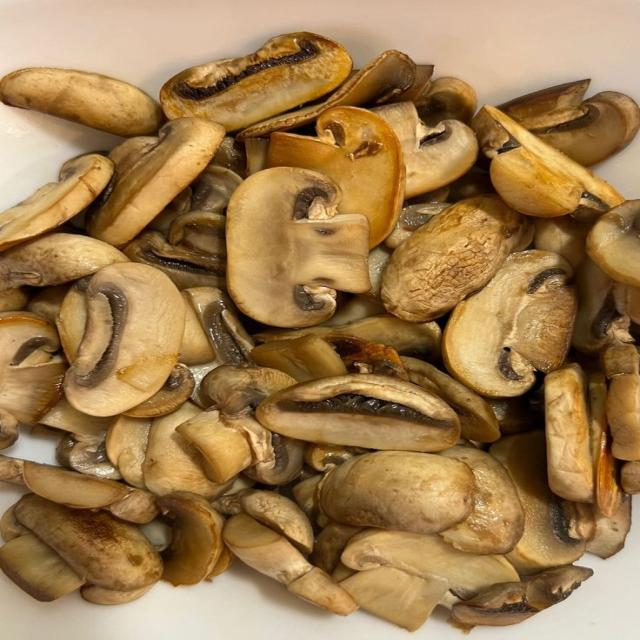champignon mushrooms: (227, 168, 370, 326), (443, 250, 576, 397), (267, 107, 406, 247), (160, 32, 352, 131), (65, 263, 185, 416), (87, 118, 224, 246), (381, 196, 520, 321), (472, 106, 623, 217), (238, 50, 416, 140), (256, 374, 459, 451), (15, 494, 162, 590), (490, 431, 586, 574), (223, 514, 357, 615), (319, 452, 476, 533), (341, 529, 519, 597), (499, 80, 639, 165), (0, 68, 164, 137), (0, 154, 113, 251), (1, 457, 158, 523), (373, 102, 478, 198), (440, 446, 524, 554), (452, 565, 593, 626), (255, 314, 441, 360), (142, 403, 230, 498), (401, 357, 499, 442), (0, 312, 66, 425), (0, 233, 127, 290), (340, 567, 448, 631), (176, 409, 268, 484), (545, 364, 594, 502), (214, 489, 313, 554), (158, 492, 224, 585), (124, 232, 226, 289), (573, 258, 633, 354), (0, 533, 84, 601), (183, 287, 253, 368), (588, 372, 623, 518), (201, 365, 295, 415), (252, 334, 347, 382), (587, 201, 639, 287), (603, 345, 639, 460), (124, 363, 194, 417), (326, 335, 408, 380), (106, 416, 151, 488), (244, 434, 305, 485), (414, 77, 477, 126), (385, 202, 450, 249), (56, 434, 122, 480), (534, 215, 590, 269), (39, 396, 112, 437), (56, 278, 90, 363), (587, 496, 632, 559), (179, 291, 216, 367), (167, 211, 226, 257), (310, 522, 362, 574), (189, 164, 243, 214), (486, 396, 543, 435), (293, 474, 330, 526), (320, 296, 384, 326), (360, 243, 392, 303), (446, 165, 495, 203), (26, 284, 70, 324), (394, 64, 434, 103), (210, 135, 246, 178), (80, 585, 153, 605), (614, 283, 639, 324), (245, 138, 269, 175), (0, 408, 19, 450), (0, 288, 28, 313), (621, 461, 639, 494)
